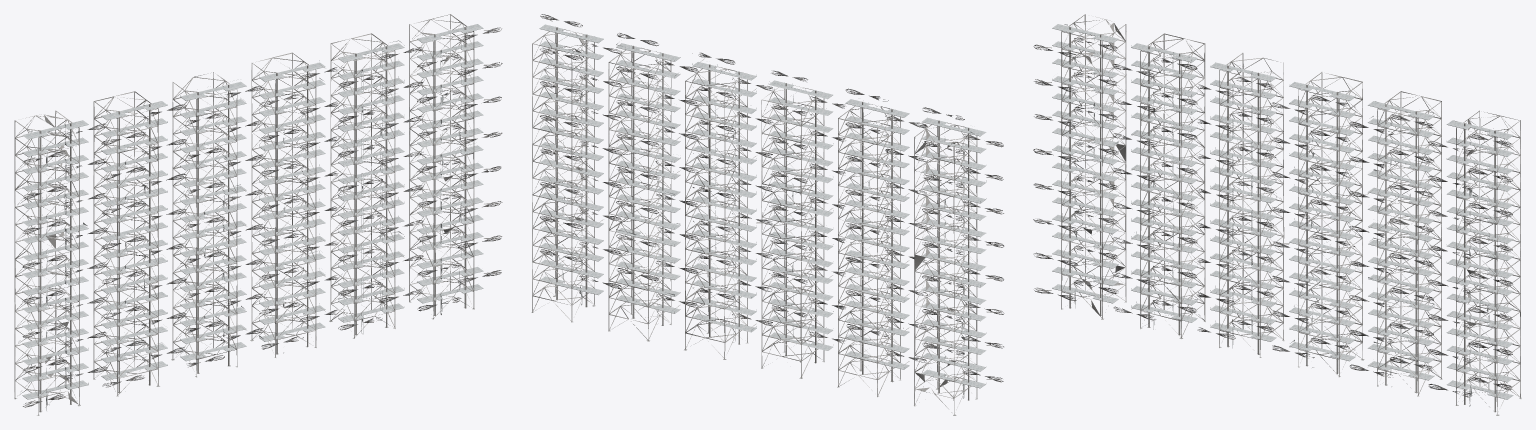
The model's file is duga_lod.obj.
3 views of the same model, side by side, from view 1: azimuth 30°, elevation 25°; view 2: azimuth 150°, elevation 25°; view 3: azimuth 330°, elevation 25° (orthographic). The views are drawn at different scales.
Parts seen in each view (by area): view 1: Bay01_Gold___Polished_Gold___Polished, Bay12_Gold___Polished_Gold___Polished, Bay01_Silver___Polished_Silver___Polished, Bay10_Gold___Polished_Gold___Polished, Bay03_Gold___Polished_Gold___Polished, Bay03_Silver___Polished_Silver___Polished, Bay05_Silver___Polished_Silver___Polished, Bay12_Silver___Polished_Silver___Polished, Bay09_Silver___Polished_Silver___Polished, Bay08_Gold___Polished_Gold___Polished, Bay07_Silver___Polished_Silver___Polished, Bay06_Gold___Polished_Gold___Polished (+25 smaller); view 2: Bay01_Silver___Polished_Silver___Polished, Bay01_Gold___Polished_Gold___Polished, Bay12_Gold___Polished_Gold___Polished, Bay10_Silver___Polished_Silver___Polished, Bay05_Silver___Polished_Silver___Polished, Bay03_Gold___Polished_Gold___Polished, Bay03_Silver___Polished_Silver___Polished, Bay07_Silver___Polished_Silver___Polished, Bay12_Silver___Polished_Silver___Polished, Bay10_Gold___Polished_Gold___Polished, Bay08_Silver___Polished_Silver___Polished, Bay06_Silver___Polished_Silver___Polished (+24 smaller); view 3: Bay12_Gold___Polished_Gold___Polished, Bay01_Gold___Polished_Gold___Polished, Bay03_Gold___Polished_Gold___Polished, Bay12_Silver___Polished_Silver___Polished, Bay10_Gold___Polished_Gold___Polished, Bay10_Silver___Polished_Silver___Polished, Bay06_Gold___Polished_Gold___Polished, Bay08_Silver___Polished_Silver___Polished, Bay04_Silver___Polished_Silver___Polished, Bay06_Silver___Polished_Silver___Polished, Bay08_Gold___Polished_Gold___Polished, Bay02_Silver___Polished_Silver___Polished (+25 smaller).
Part boxes in pixels (x1,y1,x2,y2): Bay01_Gold___Polished_Gold___Polished: (22, 120, 82, 410); Bay12_Gold___Polished_Gold___Polished: (417, 24, 483, 314); Bay01_Silver___Polished_Silver___Polished: (14, 114, 68, 414); Bay10_Gold___Polished_Gold___Polished: (339, 40, 404, 317); Bay03_Gold___Polished_Gold___Polished: (101, 101, 160, 391); Bay03_Silver___Polished_Silver___Polished: (93, 96, 137, 395); Bay05_Silver___Polished_Silver___Polished: (172, 77, 216, 376); Bay12_Silver___Polished_Silver___Polished: (421, 14, 474, 308); Bay09_Silver___Polished_Silver___Polished: (330, 39, 374, 338); Bay08_Gold___Polished_Gold___Polished: (261, 60, 325, 336); Bay07_Silver___Polished_Silver___Polished: (251, 58, 295, 357); Bay06_Gold___Polished_Gold___Polished: (182, 81, 246, 355); Bay01_Silver___Polished_Silver___Polished: (924, 124, 977, 414); Bay01_Gold___Polished_Gold___Polished: (922, 122, 986, 398); Bay12_Gold___Polished_Gold___Polished: (539, 24, 598, 305); Bay10_Silver___Polished_Silver___Polished: (608, 45, 651, 330); Bay05_Silver___Polished_Silver___Polished: (781, 88, 832, 377); Bay03_Gold___Polished_Gold___Polished: (845, 103, 909, 369); Bay03_Silver___Polished_Silver___Polished: (858, 106, 909, 396); Bay07_Silver___Polished_Silver___Polished: (705, 69, 771, 358); Bay12_Silver___Polished_Silver___Polished: (532, 26, 584, 312); Bay10_Gold___Polished_Gold___Polished: (616, 43, 674, 313); Bay08_Silver___Polished_Silver___Polished: (685, 58, 727, 349); Bay06_Silver___Polished_Silver___Polished: (761, 82, 804, 367); Bay12_Gold___Polished_Gold___Polished: (1453, 120, 1513, 406); Bay01_Gold___Polished_Gold___Polished: (1052, 24, 1118, 308); Bay03_Gold___Polished_Gold___Polished: (1131, 43, 1197, 329); Bay12_Silver___Polished_Silver___Polished: (1467, 114, 1520, 414); Bay10_Gold___Polished_Gold___Polished: (1374, 101, 1434, 380); Bay10_Silver___Polished_Silver___Polished: (1398, 96, 1441, 395); Bay06_Gold___Polished_Gold___Polished: (1218, 63, 1276, 341); Bay08_Silver___Polished_Silver___Polished: (1319, 77, 1362, 376); Bay04_Silver___Polished_Silver___Polished: (1160, 38, 1205, 337); Bay06_Silver___Polished_Silver___Polished: (1240, 58, 1284, 356); Bay08_Gold___Polished_Gold___Polished: (1297, 82, 1355, 361); Bay02_Silver___Polished_Silver___Polished: (1082, 23, 1126, 318).
Bounding box in the file's own units: 255 × 143 × 29.09.
Materials: 4 (4 with a texture image).
